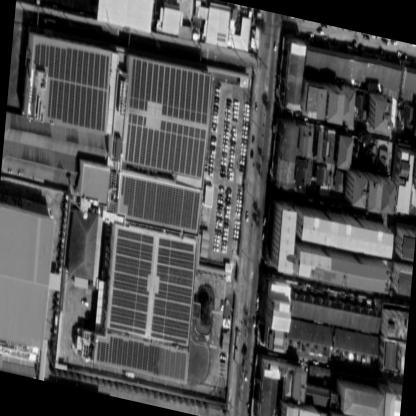solar-pv-panel: (34, 42, 109, 133), (125, 114, 206, 178), (130, 60, 211, 124), (150, 238, 195, 344), (110, 229, 154, 335), (120, 177, 200, 231), (97, 336, 187, 380)
